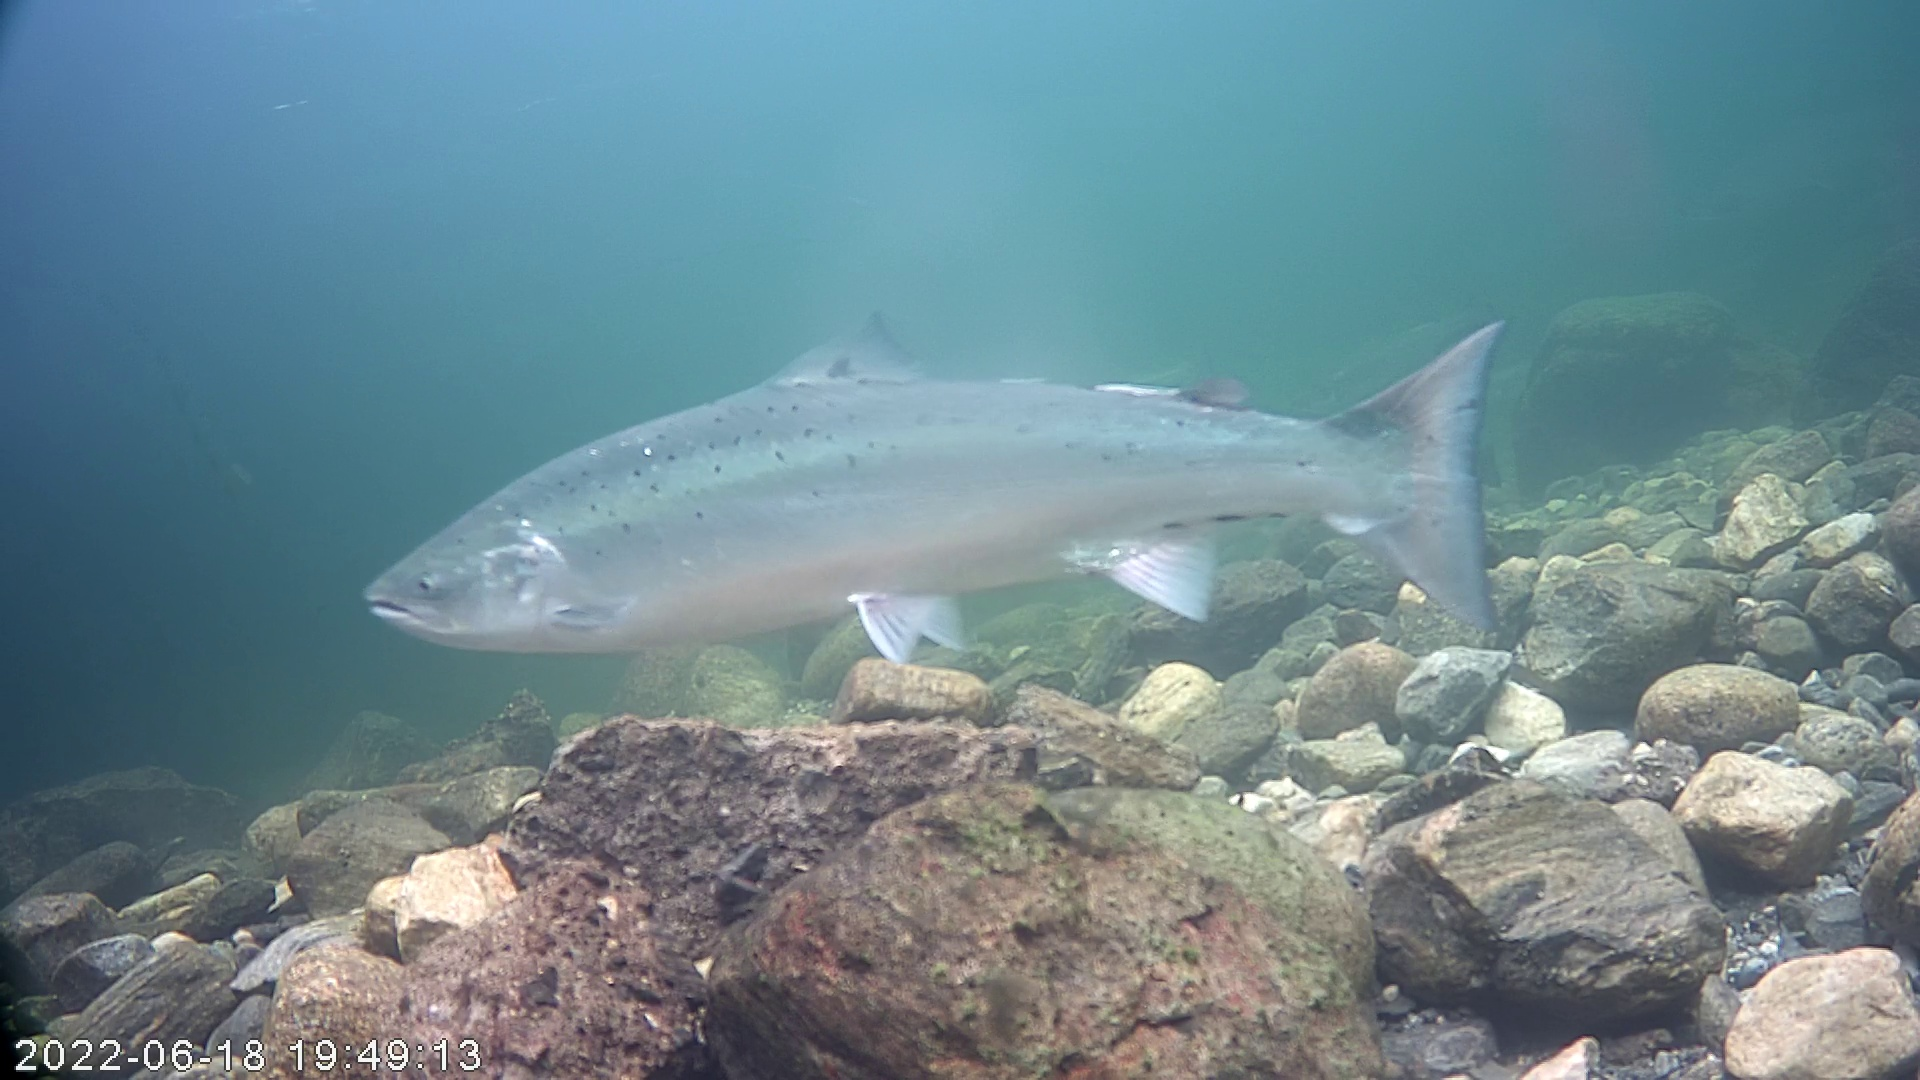salmon: (363, 307, 1505, 669)
